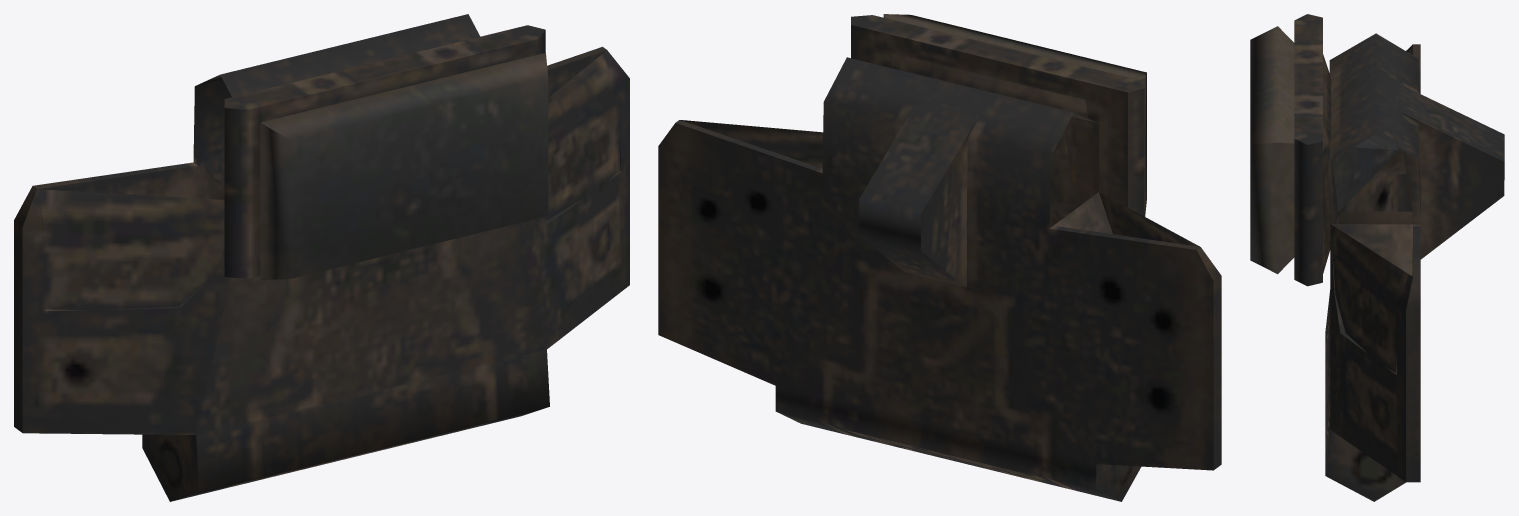
3 renders of one model, left to right at view 1: azimuth 30°, elevation 25°; view 2: azimuth 150°, elevation 25°; view 3: azimuth 270°, elevation 25°, orthographic. The views are drawn at different scales.
Visible parts, largest first — view 1: set_0_group_0; view 2: set_0_group_0; view 3: set_0_group_0.
Part boxes in pixels (x1,y1,x2,y2): set_0_group_0: [14, 14, 629, 501]; set_0_group_0: [658, 14, 1221, 501]; set_0_group_0: [1250, 14, 1504, 501].
Size of the model in its own units: 0.4 by 0.2641 by 0.1735.
1 material, 1 textured.
